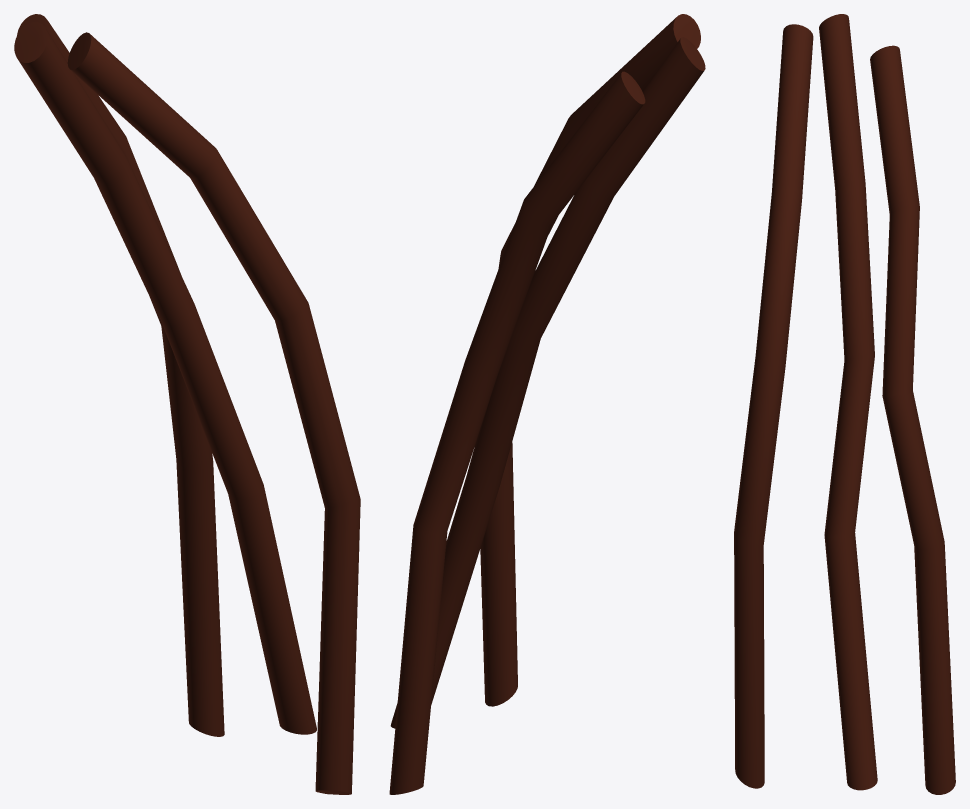
The model's file is support_pillars.fbx.
3 renders of one model, left to right at view 1: azimuth 30°, elevation 25°; view 2: azimuth 150°, elevation 25°; view 3: azimuth 270°, elevation 25°, orthographic. The views are drawn at different scales.
Visible parts, largest first — view 1: support_pillars; view 2: support_pillars; view 3: support_pillars.
Boxes of the visible parts, x1=… form: support_pillars: x1=14, y1=14, x2=360, y2=794; support_pillars: x1=389, y1=14, x2=705, y2=794; support_pillars: x1=734, y1=14, x2=955, y2=794.
Bounding box in the file's own units: 328 × 815 × 241.
